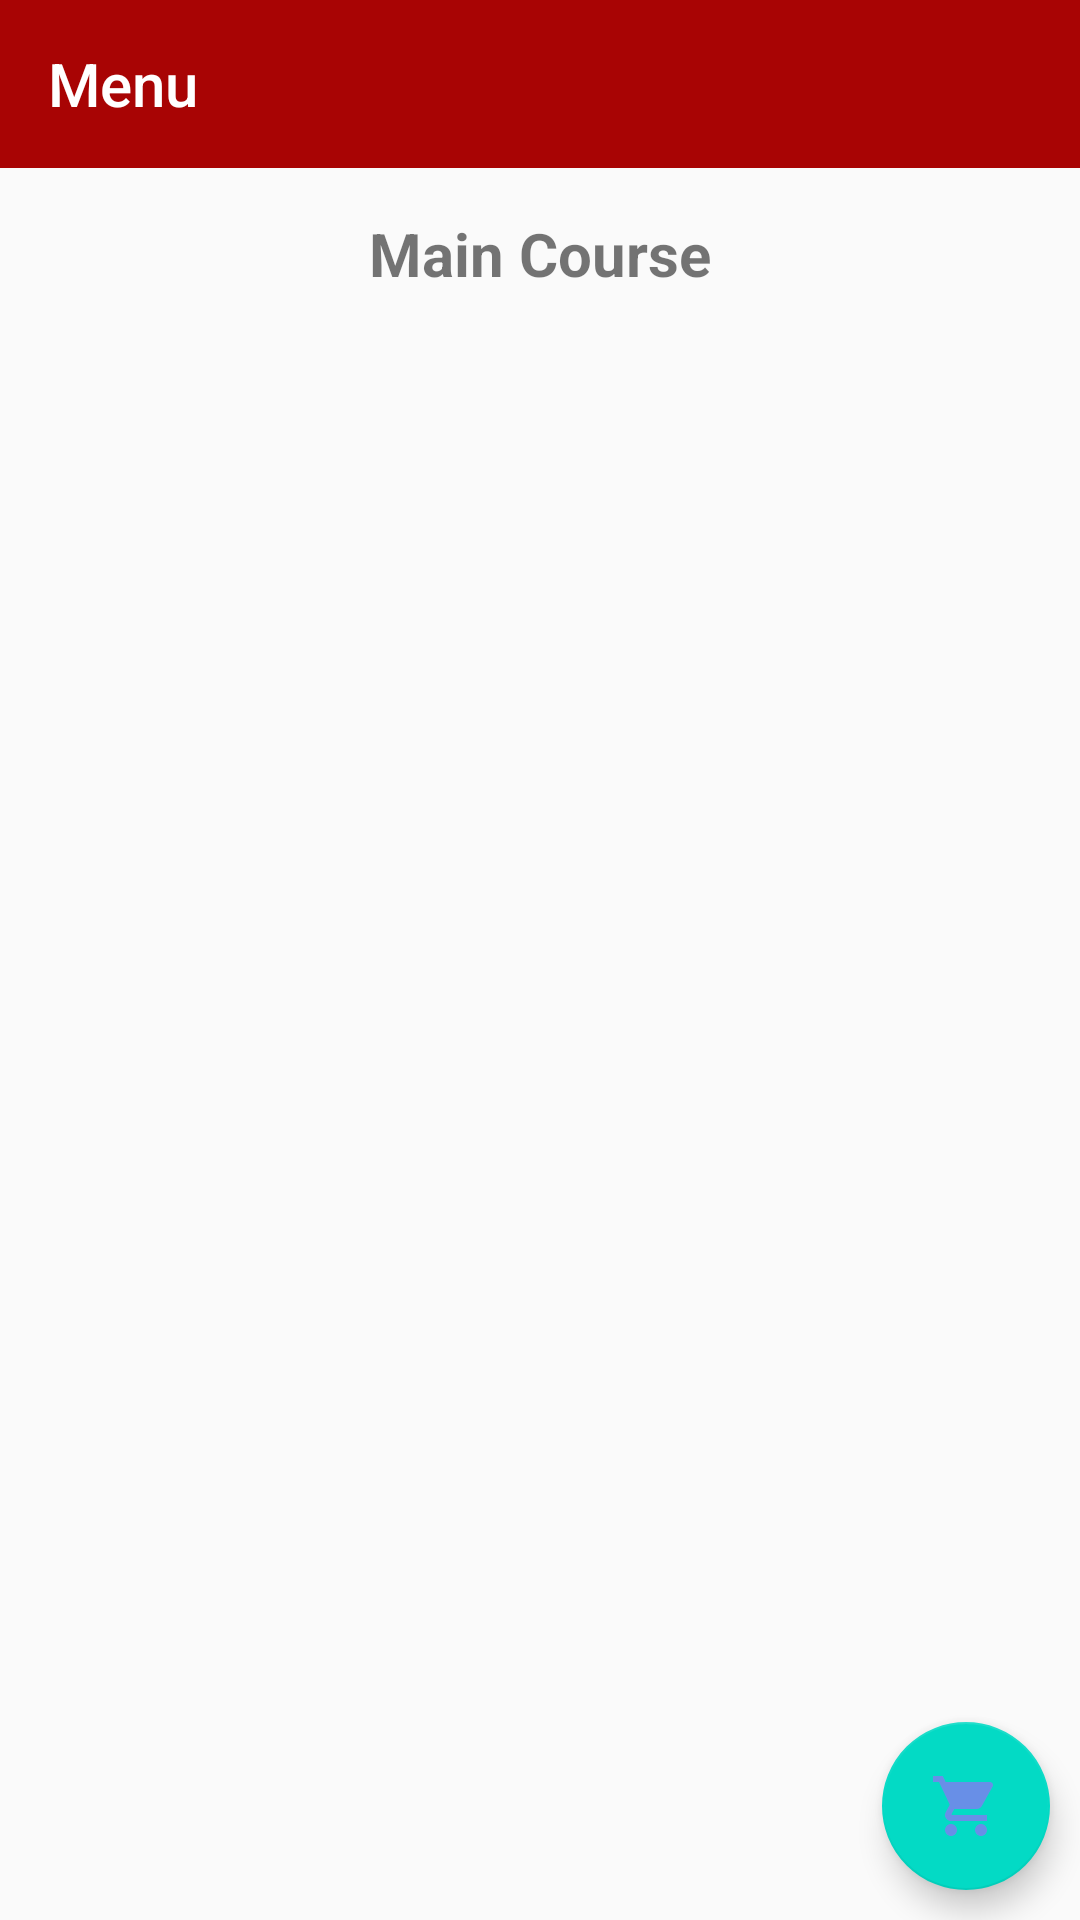

Point at icon controls on the screen. Image size 1080×1920, points as [x,y].
shopping cart: [966,1806]
